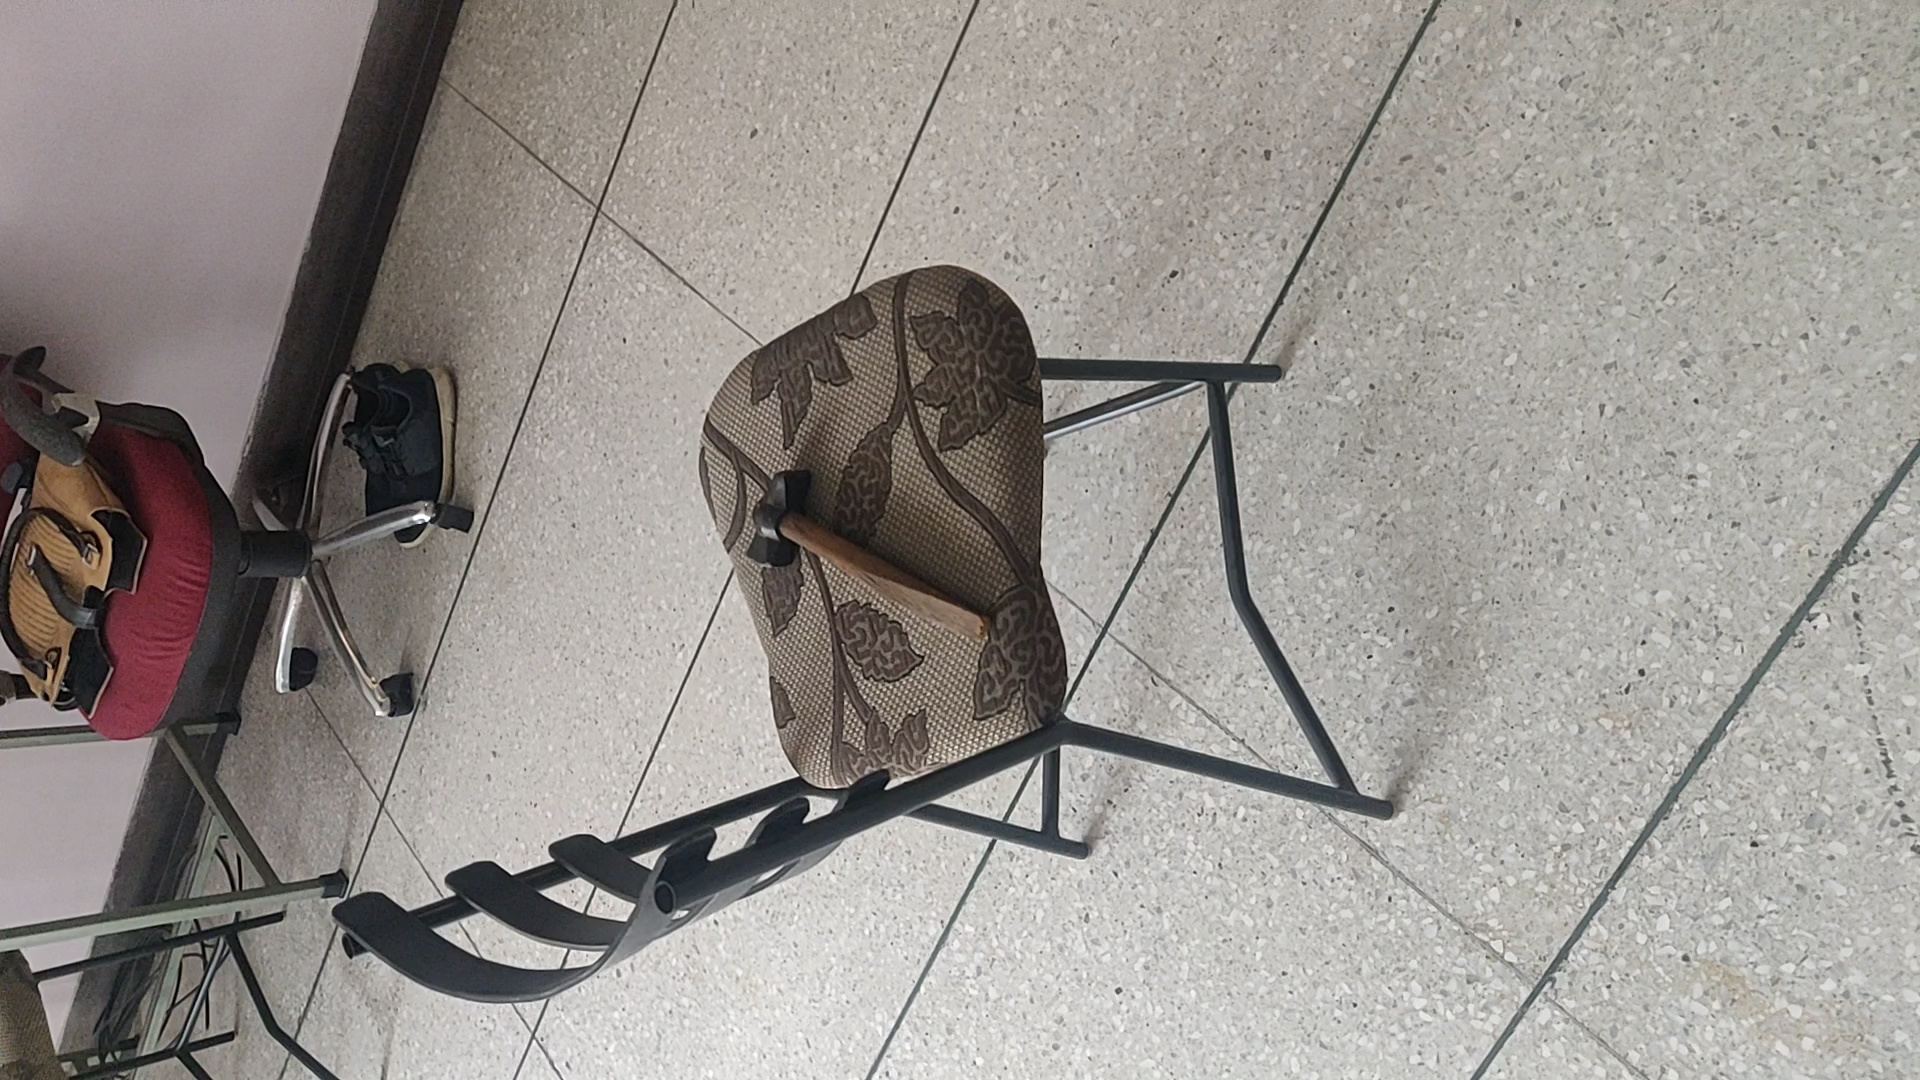hammer: (742, 465, 992, 647)
